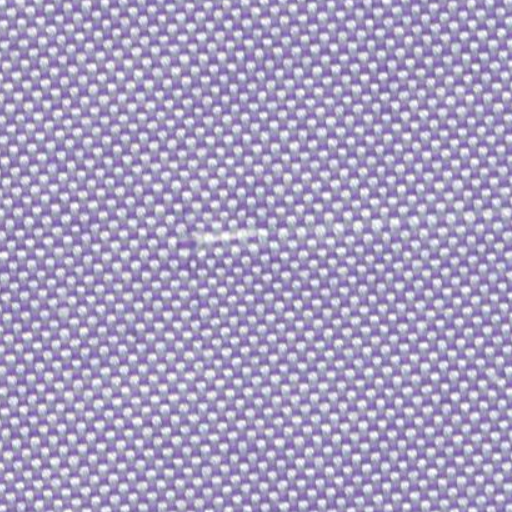DaiSha: (194, 202, 498, 260)
